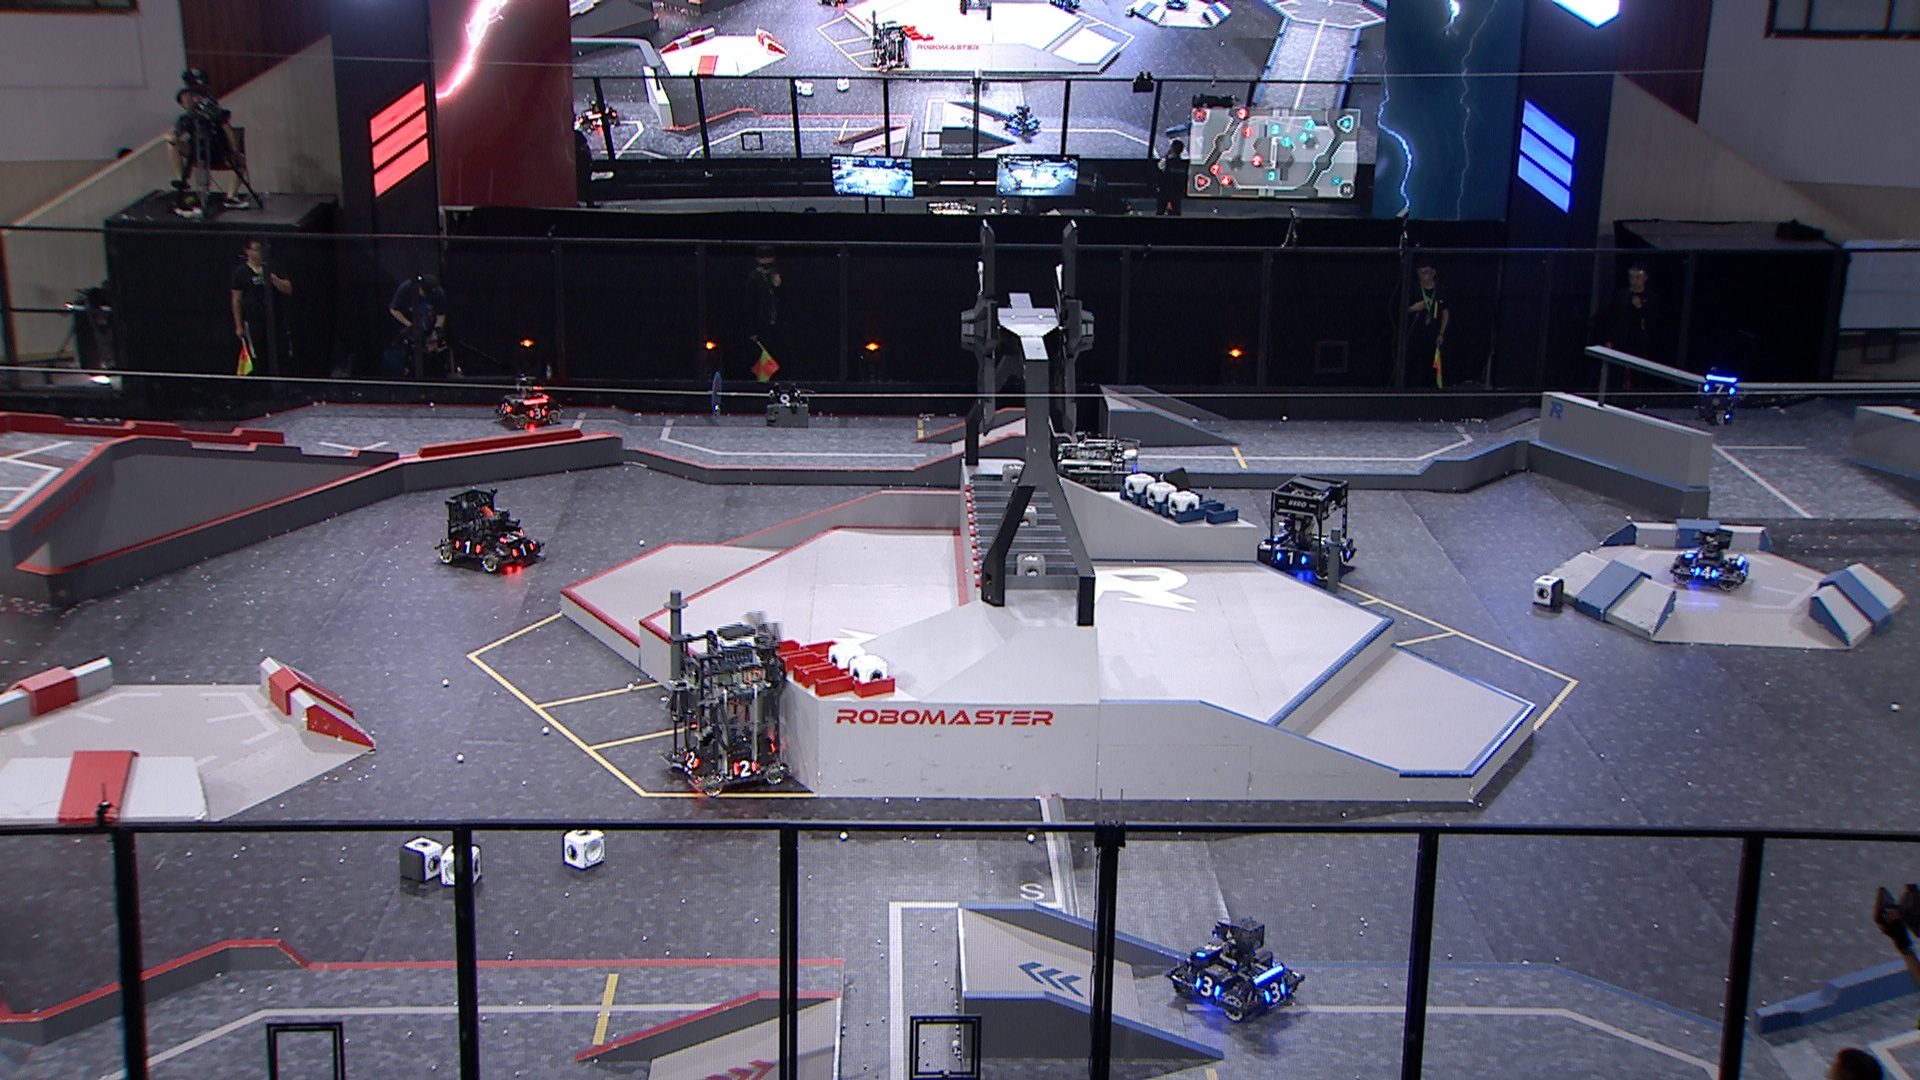armor: (1192, 975, 1222, 998), (1199, 932, 1224, 957), (1278, 549, 1309, 566), (1705, 380, 1735, 396), (1331, 545, 1353, 566), (510, 542, 537, 559), (1266, 982, 1286, 1005), (732, 760, 756, 778), (679, 750, 698, 771), (1695, 564, 1718, 580), (456, 541, 483, 553), (502, 531, 524, 546), (529, 406, 546, 419), (498, 401, 513, 414), (1741, 562, 1749, 578)
car: (659, 628, 785, 796), (1164, 909, 1302, 1029), (1043, 431, 1160, 541), (1250, 477, 1362, 588), (433, 485, 545, 575), (1667, 526, 1751, 593), (493, 372, 566, 436)
ignore: (868, 17, 910, 76), (578, 96, 622, 133), (1006, 105, 1039, 136)
watcher: (1698, 363, 1746, 425)
